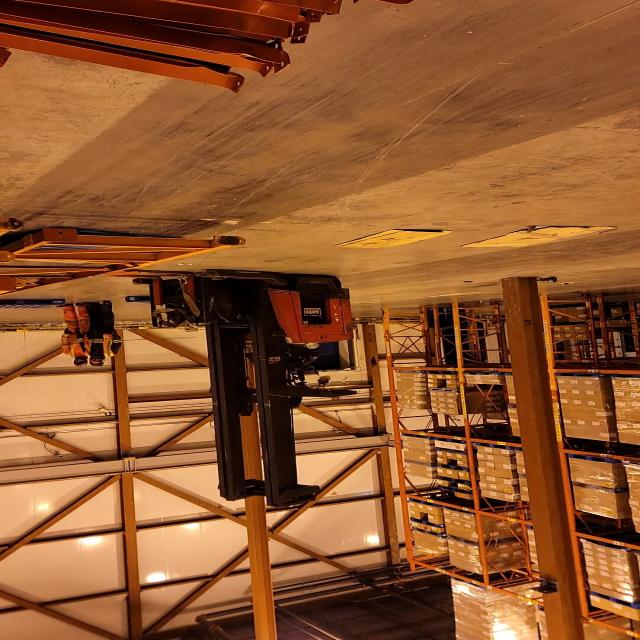forklift: (130, 270, 355, 500)
human: (250, 332, 338, 383), (74, 298, 123, 367), (50, 300, 96, 370)
objectofinterest: (0, 228, 249, 294), (458, 221, 619, 250), (332, 228, 452, 251), (1, 297, 66, 311), (120, 296, 152, 306)
